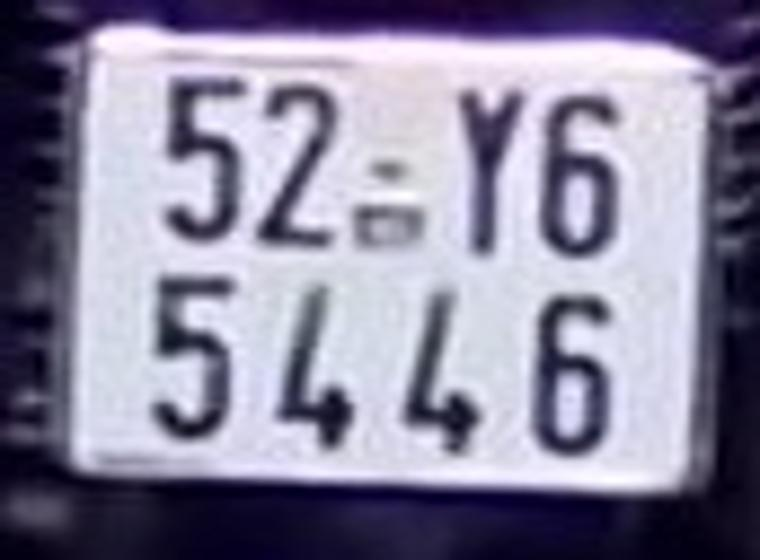-: (363, 159, 405, 177)
2: (265, 85, 329, 245)
4: (406, 290, 483, 454), (283, 283, 354, 449)
5: (152, 276, 235, 437), (164, 74, 240, 240)
6: (539, 90, 619, 256), (536, 293, 613, 452)
Y: (453, 85, 520, 259)
